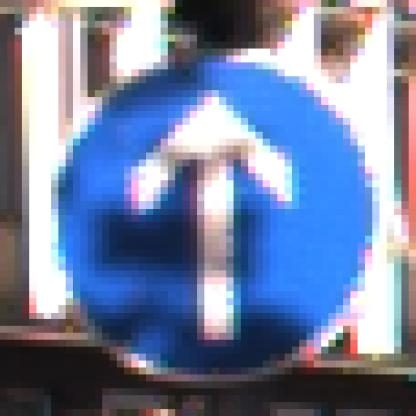AheadOnly: (45, 43, 380, 376)
